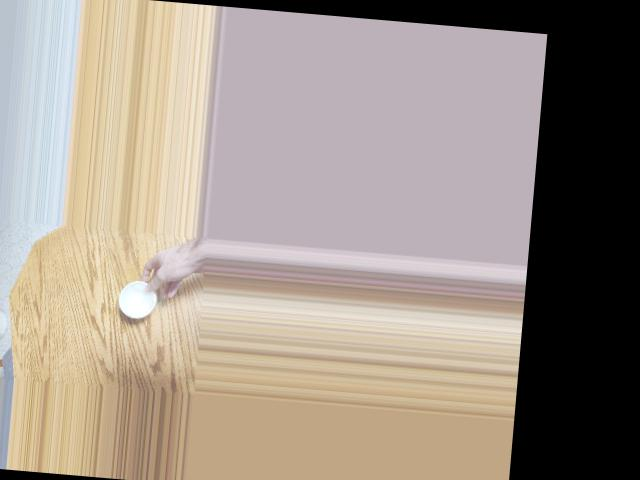cotage: (117, 275, 161, 321)
